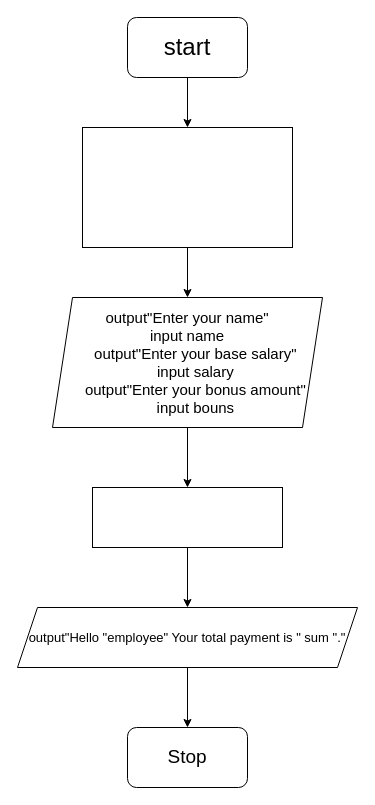
This 375x805 diagram has some shape labels left out. Here are the shapes that lost their labels. From the top down, the centre of each, then its label:
point (187, 187): declarations string employee double salary double bouns double sum
point (187, 517): sum = salary + bouns
